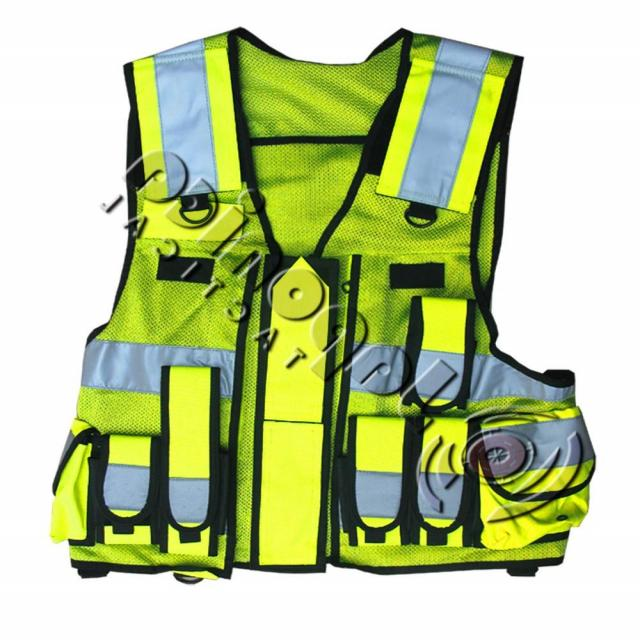Reflective-Jacket: (32, 10, 618, 626)
